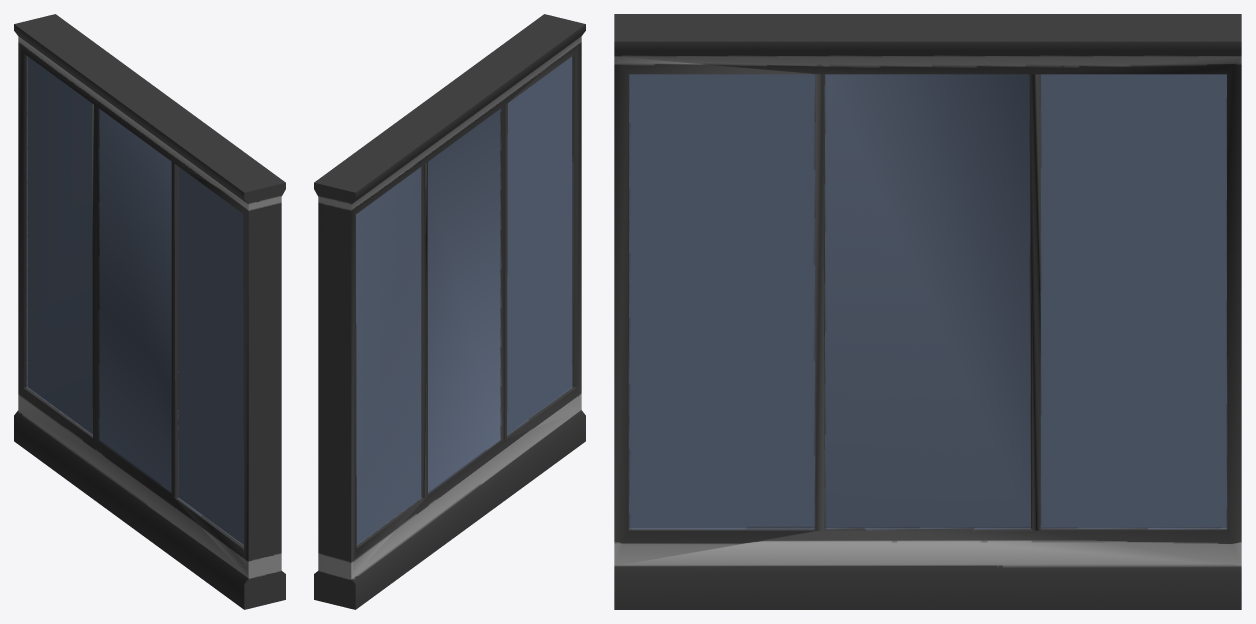
The model's file is Neo_WallWindow_03_snaps001.fbx.
3 renders of one model, left to right at view 1: azimuth 30°, elevation 25°; view 2: azimuth 150°, elevation 25°; view 3: azimuth 270°, elevation 25°, orthographic. The views are drawn at different scales.
Parts seen in each view (by area): view 1: Neo_WallWindow_03_snaps001; view 2: Neo_WallWindow_03_snaps001; view 3: Neo_WallWindow_03_snaps001.
Part boxes in pixels (bbox=[...]): Neo_WallWindow_03_snaps001: bbox=[14, 14, 285, 609]; Neo_WallWindow_03_snaps001: bbox=[314, 14, 585, 609]; Neo_WallWindow_03_snaps001: bbox=[614, 14, 1241, 609].
Size of the model in its own units: 0.3125 by 3 by 3.
